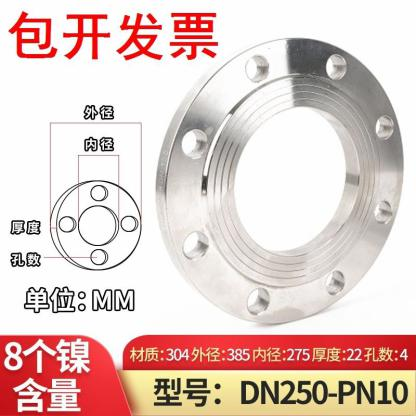FOD: (152, 34, 403, 329)
